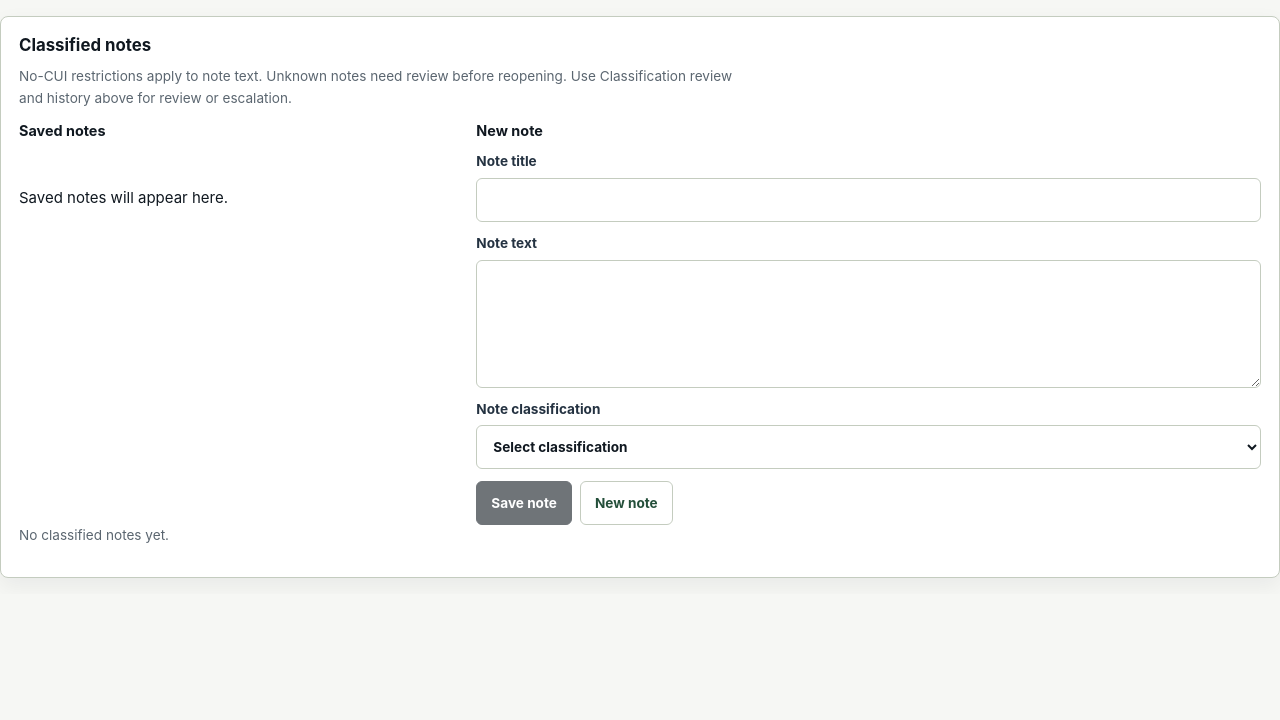
Test case: requires a selected classification before note save
Expected: the text "No classified notes yet." is shown, [19,528,169,544]
Type "Synthetic" into the field labelled "Note title" at point(869, 200), box [476,178,1261,222]
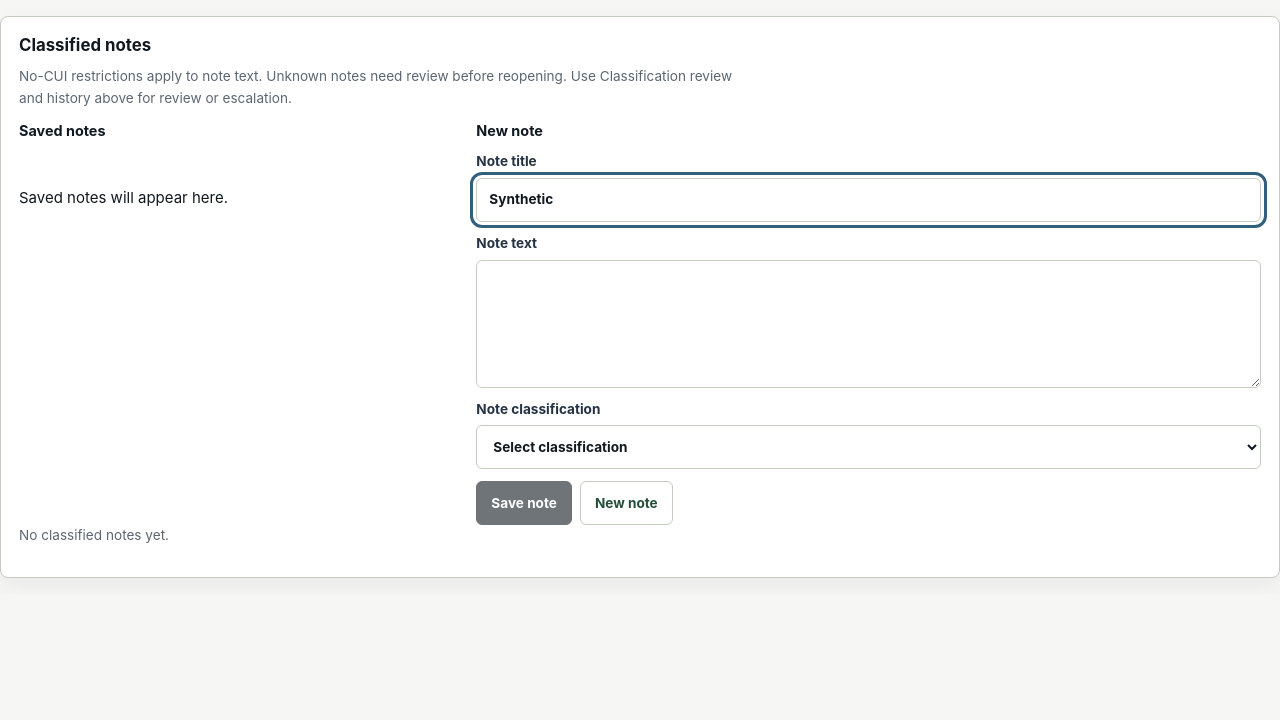
Type "Synthetic note" into the text box labelled "Note text" at point(869, 324), box [476,260,1261,388]
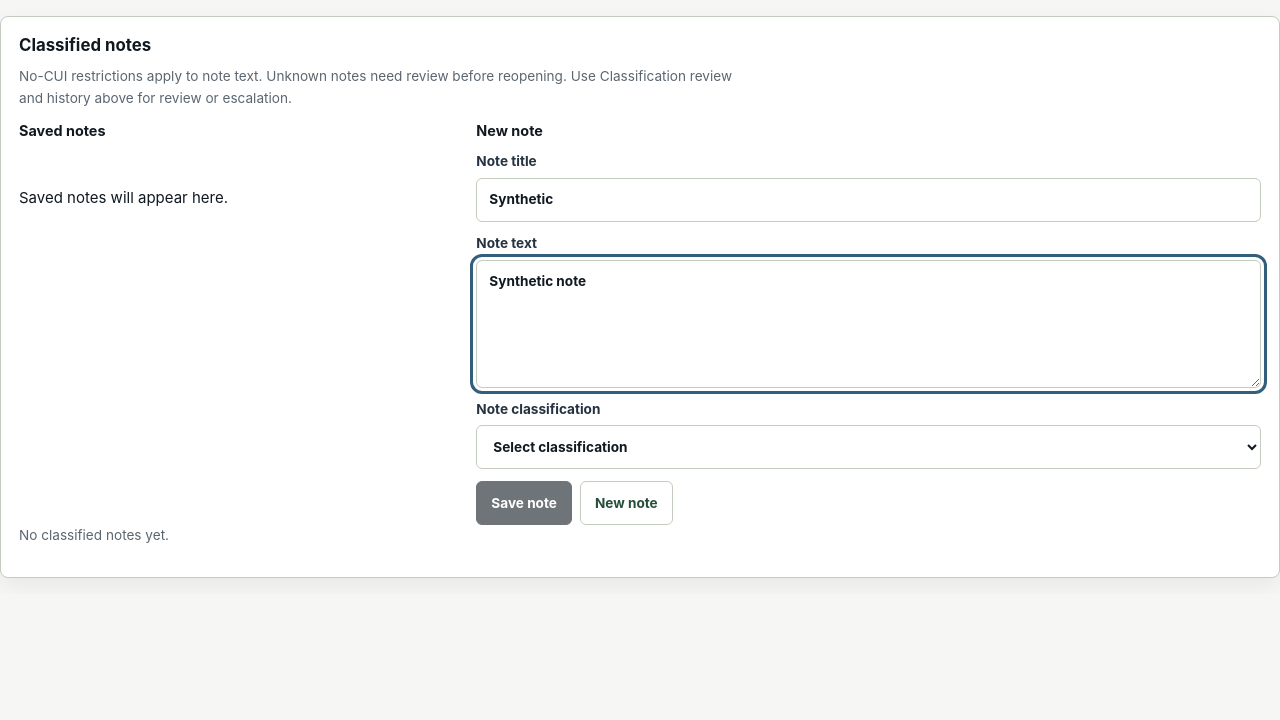
Expected: the button "Save note" is disabled, [476,482,572,526]
Select "Unclassified" in the dropdown labelled "Note classification" at point(869, 448), box [476,426,1261,470]
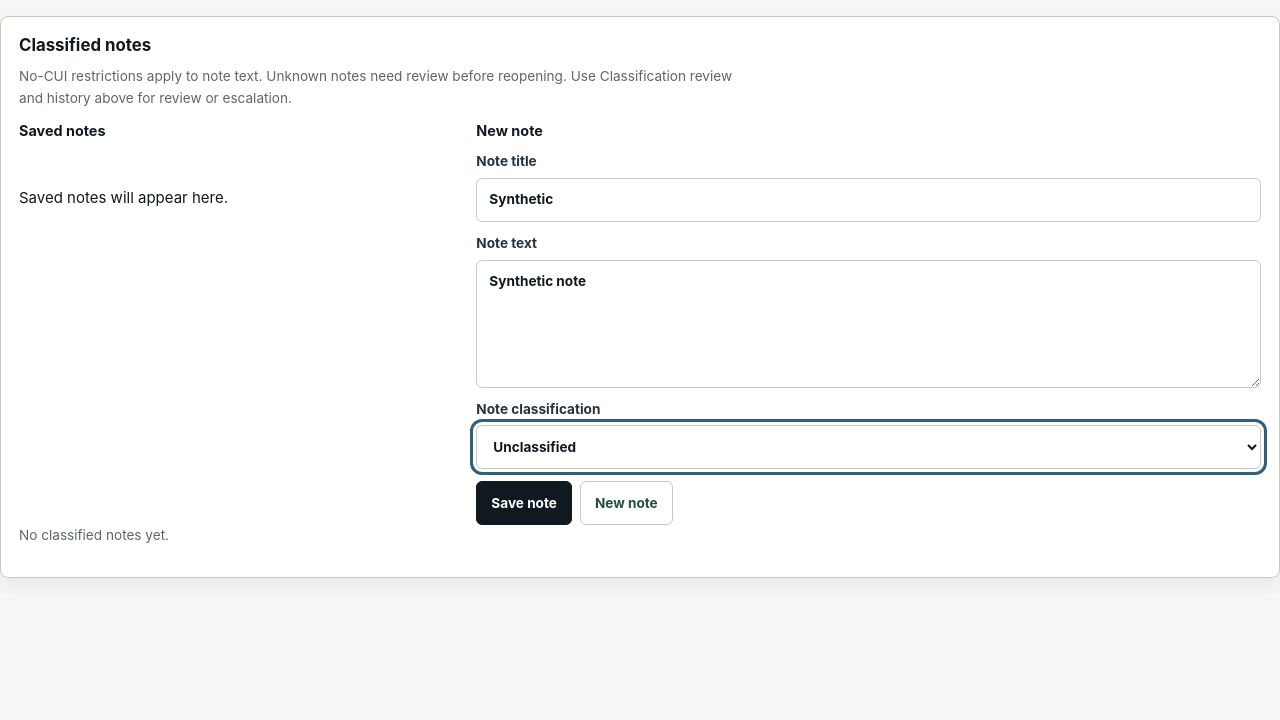
Click the button "Save note" at point(524, 504), box [476,482,572,526]
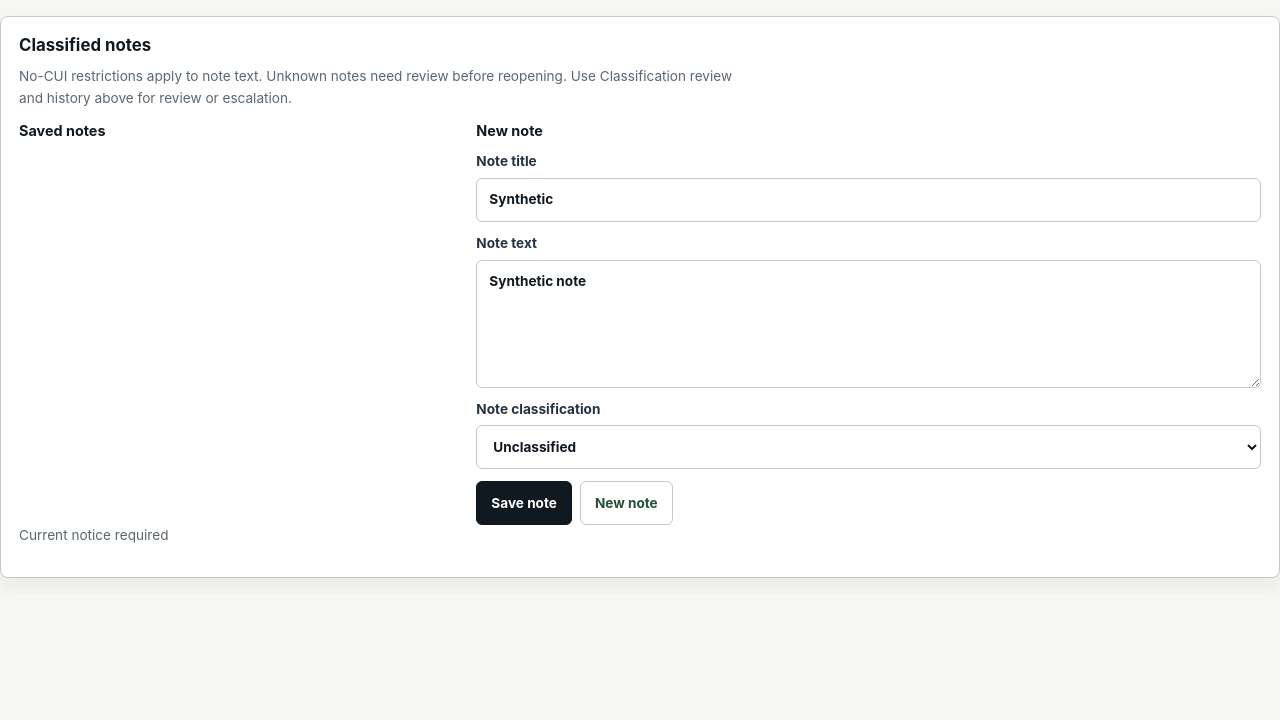
Expected: the text "Current notice required" is shown, [19,528,168,544]
